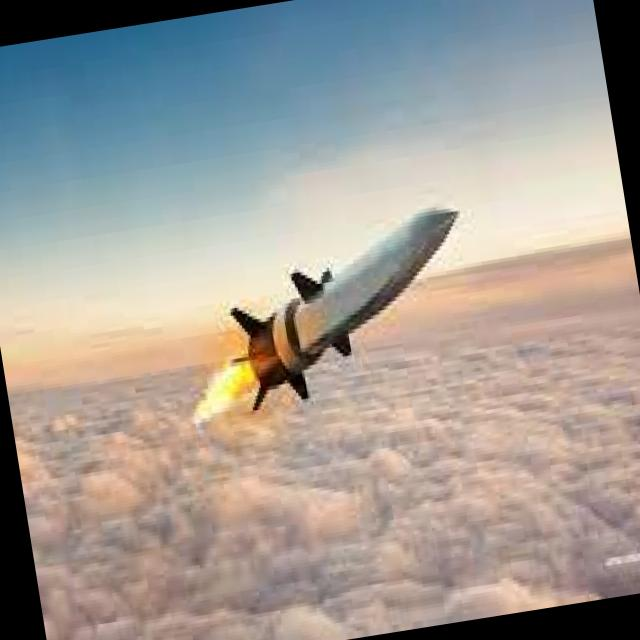rocket: (147, 194, 489, 432)
